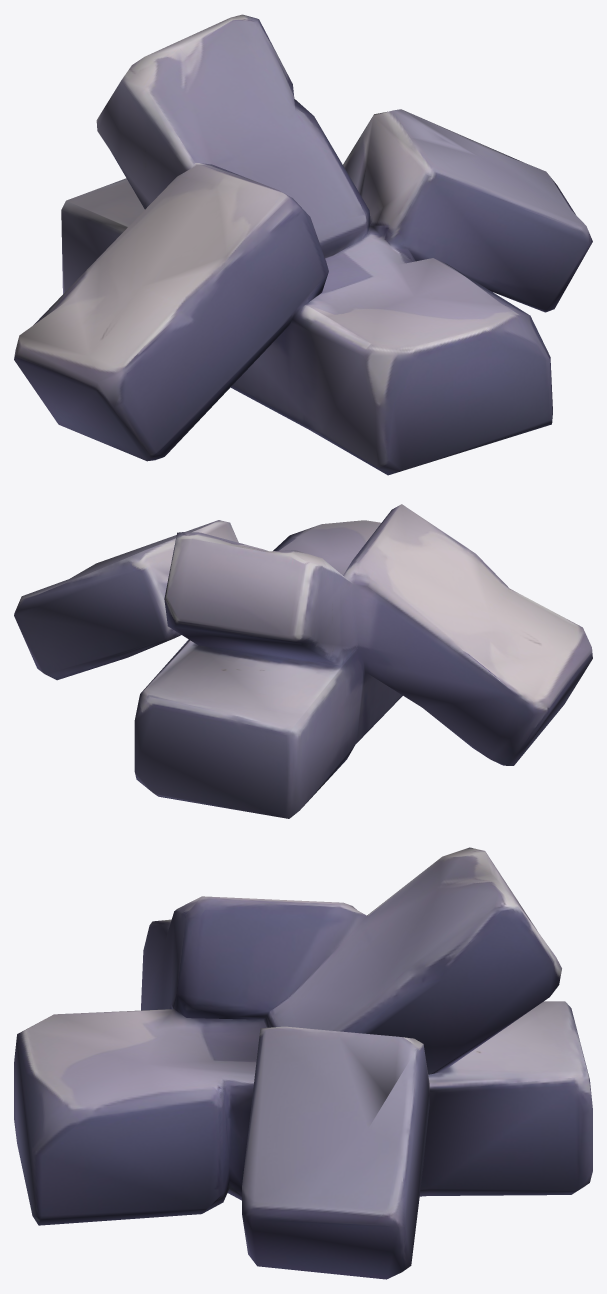
3 views of the same model, one above another, from view 1: azimuth 30°, elevation 25°; view 2: azimuth 150°, elevation 25°; view 3: azimuth 270°, elevation 25° (orthographic). The views are drawn at different scales.
Parts seen in each view (by area): view 1: tower-rock-3; view 2: tower-rock-3; view 3: tower-rock-3.
Part boxes in pixels (left/top/right/bottom): tower-rock-3: left=14, top=14, right=592, bottom=475; tower-rock-3: left=14, top=504, right=592, bottom=818; tower-rock-3: left=14, top=847, right=592, bottom=1279.
Bounding box in the file's own units: 0.4442 × 0.2035 × 0.3679.
Materials: 1 (1 with a texture image).
